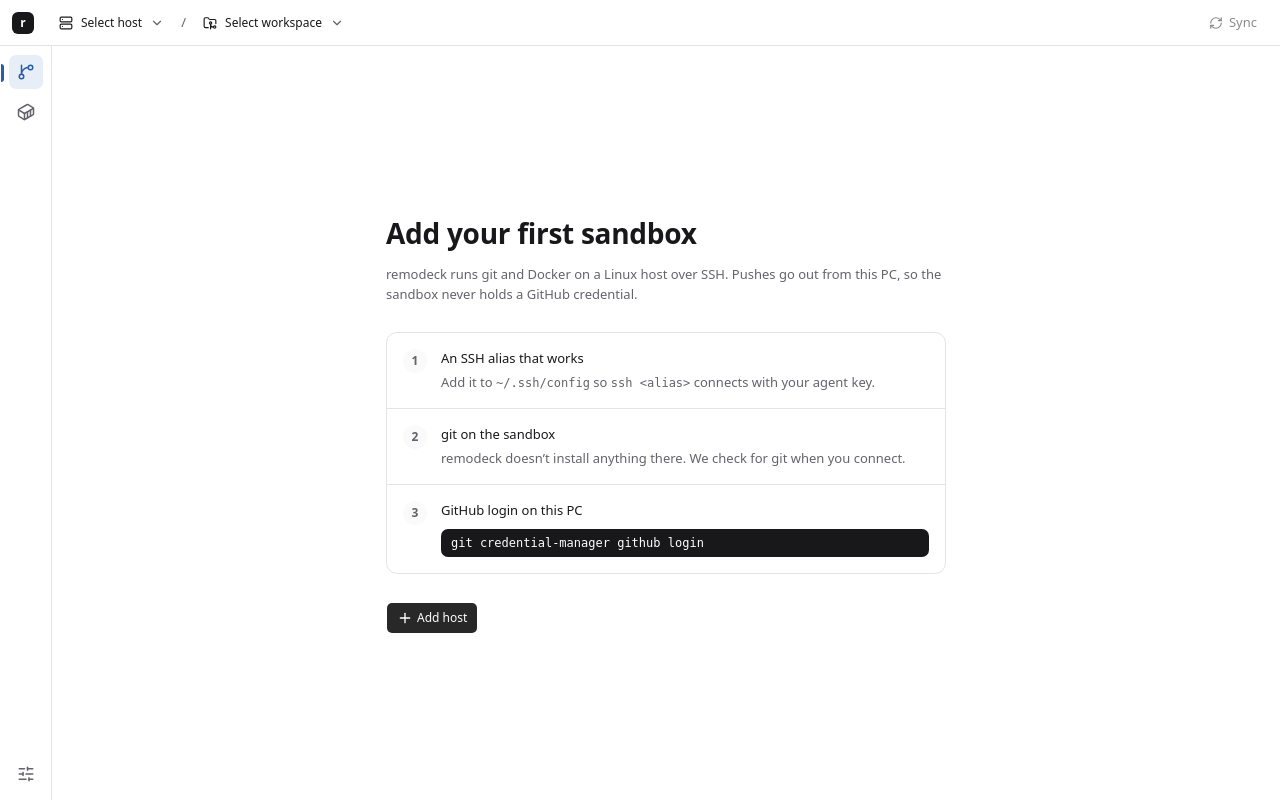
Test: App layout › opens settings from the activity bar
Click the button named "Settings". click: (26, 774)
box: x1=8 y1=756 x2=44 y2=792
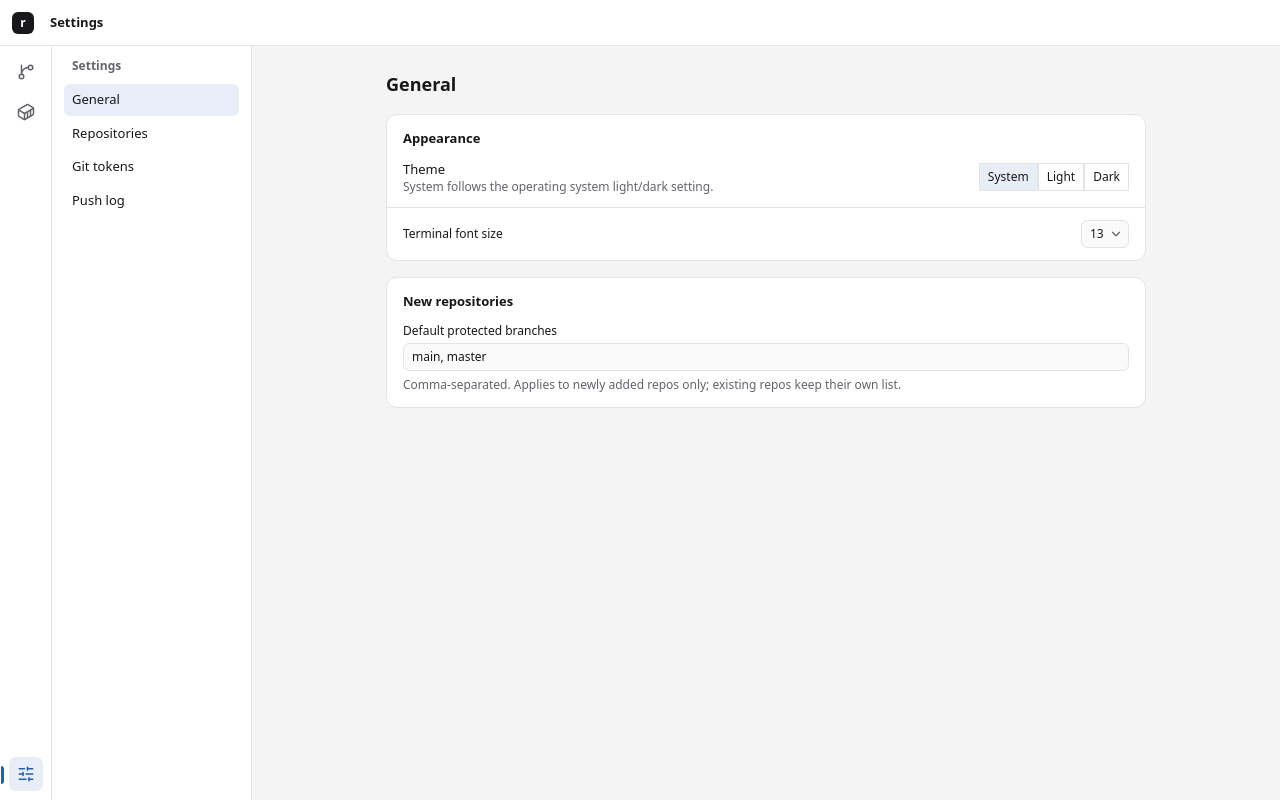
Check: the element "Settings" is shown
